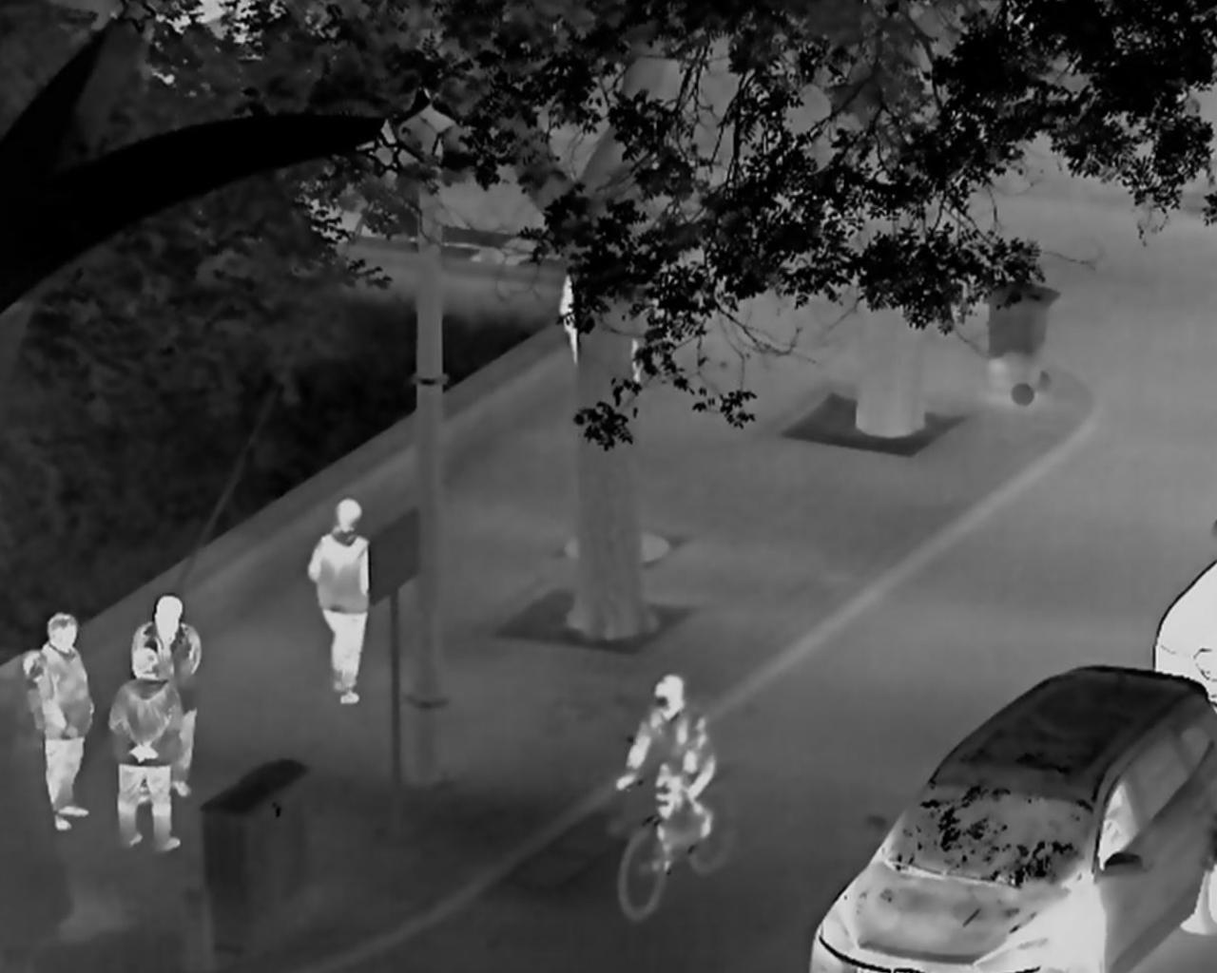person: (612, 671, 718, 872), (107, 648, 183, 854), (128, 592, 204, 798), (303, 498, 368, 706), (40, 611, 97, 834), (17, 649, 48, 750)
